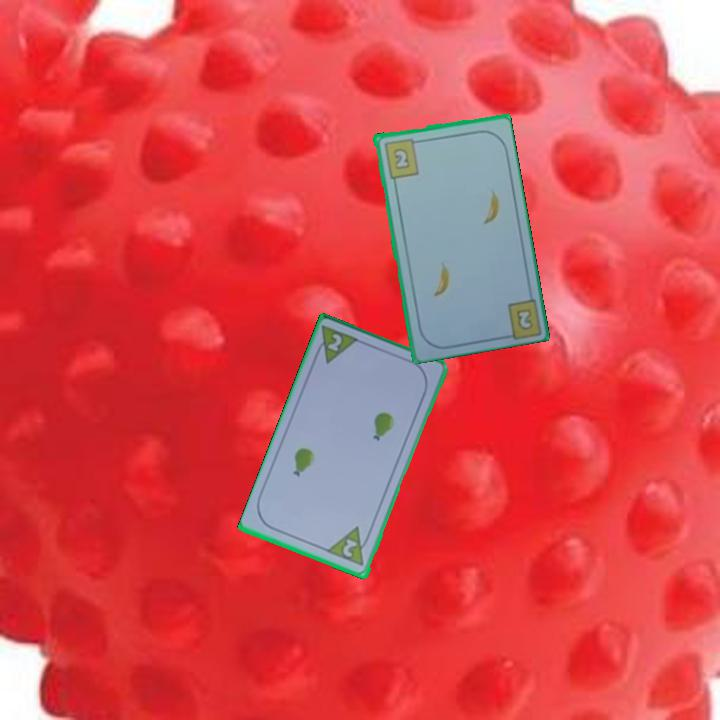2b: (380, 134, 422, 181), (512, 305, 534, 332)
2p: (310, 322, 363, 368), (325, 523, 374, 570)
